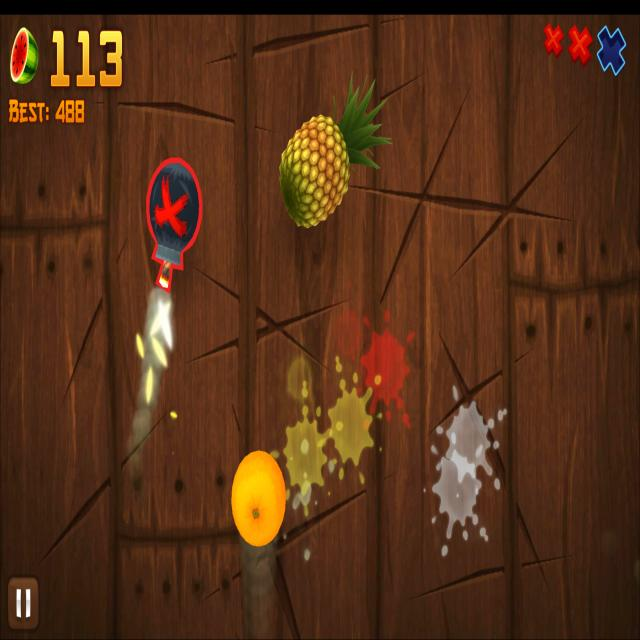bomb: (145, 155, 204, 294)
fruit: (279, 114, 349, 228), (232, 449, 286, 546)
